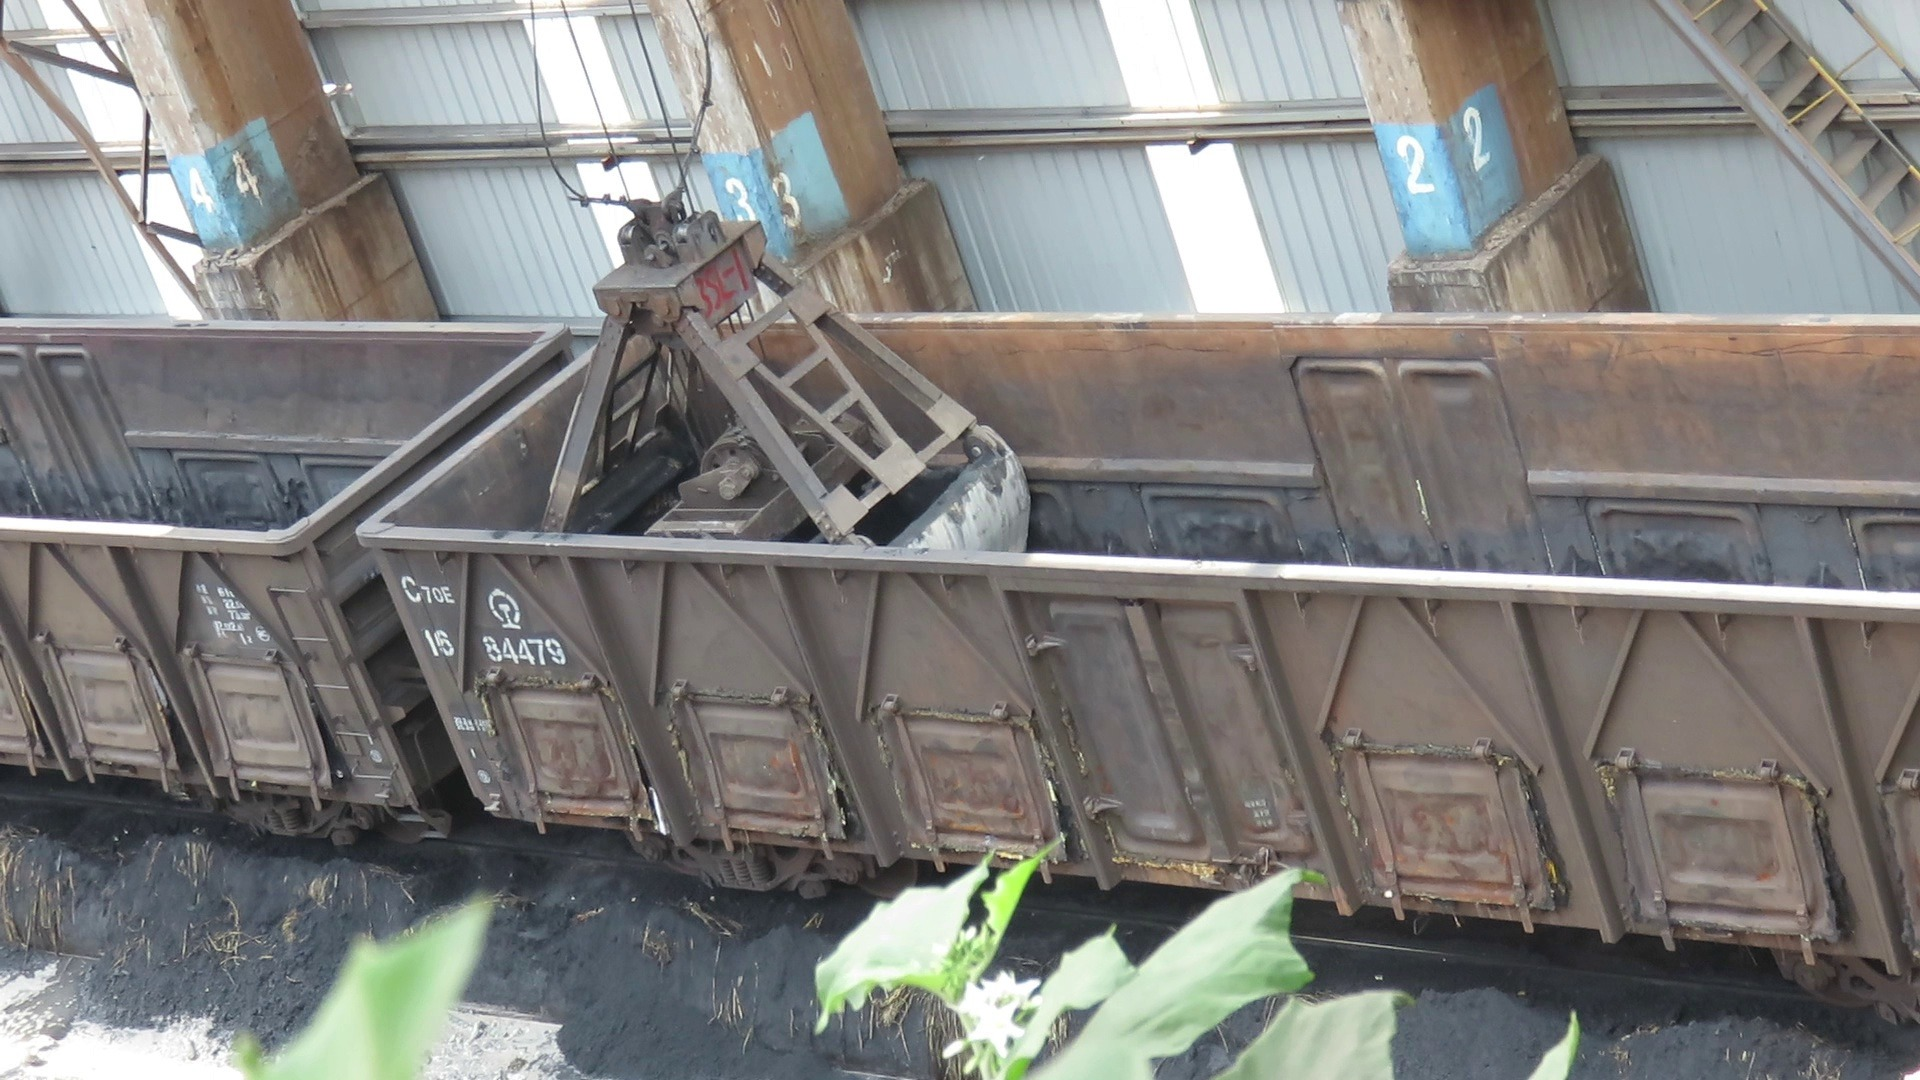grab: (526, 190, 1036, 571)
